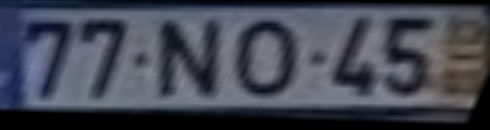4: (328, 16, 385, 102)
5: (385, 16, 445, 99)
7: (77, 18, 139, 104), (24, 20, 80, 107)
N: (152, 17, 230, 101)
O: (233, 18, 302, 101)
